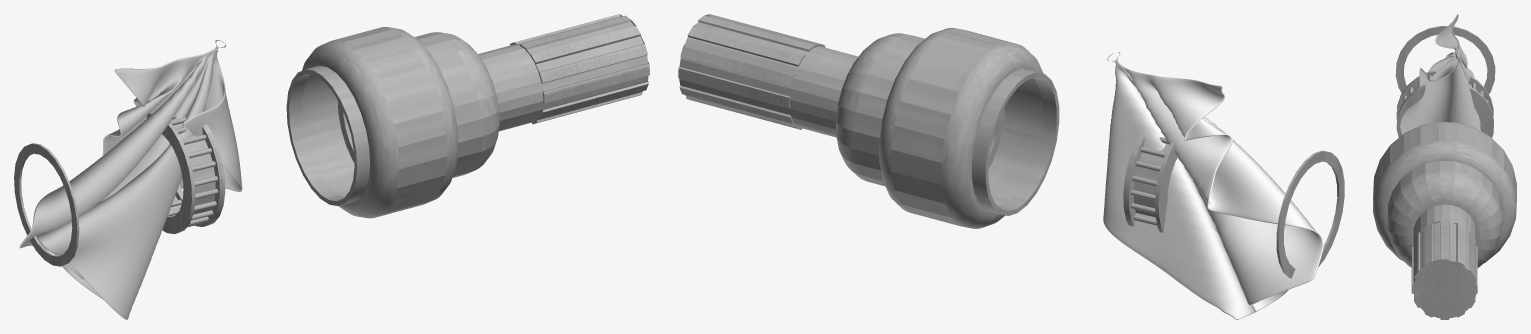
The picture shows the model from 3 angles, left to right: view 1: azimuth 30°, elevation 25°; view 2: azimuth 150°, elevation 25°; view 3: azimuth 270°, elevation 25°; orthographic projection. The views are drawn at different scales.
Parts seen in each view (by area): view 1: 1.003, lap mfb, 1, 1.001; view 2: 1.003, lap mfb, 1, 1.001; view 3: 1.003, lap mfb, 1, 1.001.
Part boxes in pixels (box(x1,y1,x2,y2)): 1.003: box(286, 14, 649, 218); lap mfb: box(19, 40, 242, 319); 1: box(146, 113, 225, 234); 1.001: box(14, 143, 79, 266); 1.003: box(678, 14, 1059, 228); lap mfb: box(1103, 52, 1323, 319); 1: box(1123, 135, 1177, 232); 1.001: box(1276, 150, 1344, 278); 1.003: box(1373, 121, 1516, 319); lap mfb: box(1400, 14, 1492, 138); 1: box(1396, 70, 1493, 137); 1.001: box(1395, 26, 1495, 93).
Size of the model in its own units: 580 by 216 by 153.
6 materials, 5 textured.
